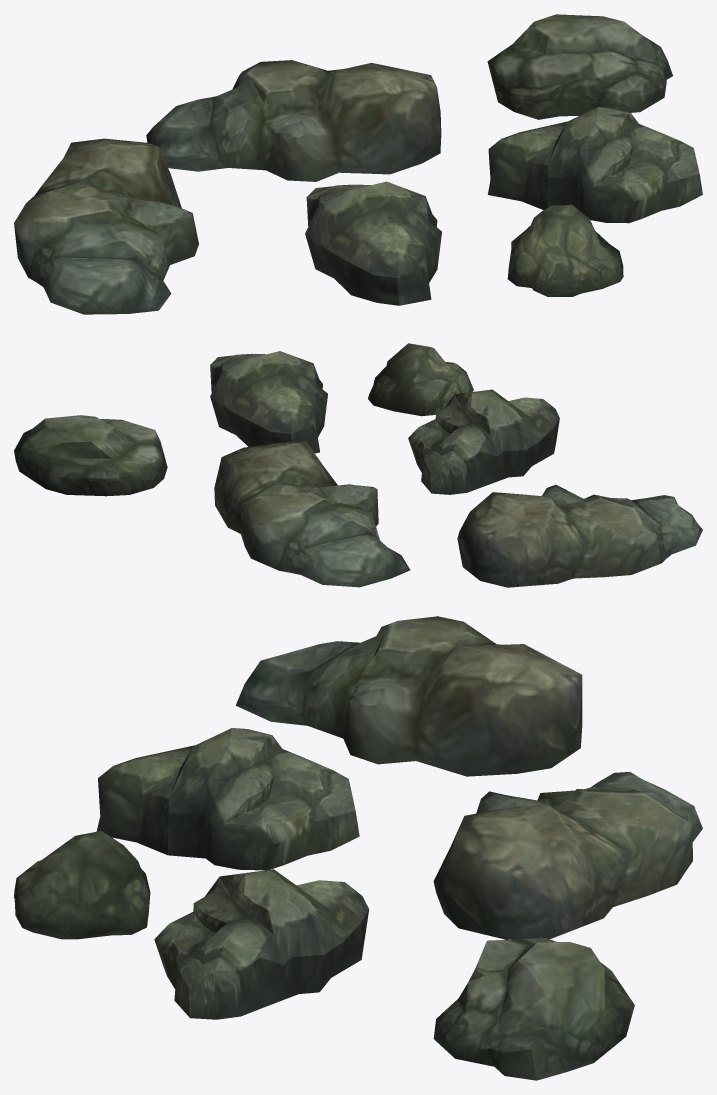
File: s7_fightpve_rock2.FBX
3 renders of one model, top to bottom at view 1: azimuth 30°, elevation 25°; view 2: azimuth 150°, elevation 25°; view 3: azimuth 270°, elevation 25°, orthographic. The views are drawn at different scales.
Visible parts, largest first — view 1: Plane25cvcv02, Plane25cvcv01, Box02, Object01dfdf, Box01, Object01dfdcvcvcvf01; view 2: Plane25cvcv01, Plane25cvcv02, Box01, Object01dfdf, Box02, Object01dfdcvcvcvf01; view 3: Plane25cvcv01, Plane25cvcv02, Box01, Box02, Object01dfdf, Object01dfdcvcvcvf01.
Boxes of the visible parts, left/top/right/bottom form: Plane25cvcv02: left=146, top=60, right=441, bottom=181; Plane25cvcv01: left=14, top=138, right=198, bottom=314; Box02: left=487, top=107, right=702, bottom=223; Object01dfdf: left=487, top=14, right=672, bottom=119; Box01: left=305, top=181, right=441, bottom=305; Object01dfdcvcvcvf01: left=507, top=204, right=623, bottom=296; Plane25cvcv01: left=457, top=484, right=702, bottom=587; Plane25cvcv02: left=214, top=441, right=410, bottom=587; Box01: left=408, top=389, right=559, bottom=494; Object01dfdf: left=14, top=415, right=167, bottom=496; Box02: left=210, top=351, right=327, bottom=453; Object01dfdcvcvcvf01: left=368, top=343, right=473, bottom=416; Plane25cvcv01: left=235, top=616, right=582, bottom=776; Plane25cvcv02: left=433, top=772, right=702, bottom=939; Box01: left=96, top=728, right=359, bottom=870; Box02: left=154, top=869, right=369, bottom=1019; Object01dfdf: left=433, top=938, right=634, bottom=1080; Object01dfdcvcvcvf01: left=14, top=831, right=150, bottom=939.
Size of the model in its own units: 1.32 by 0.1385 by 0.9122.
